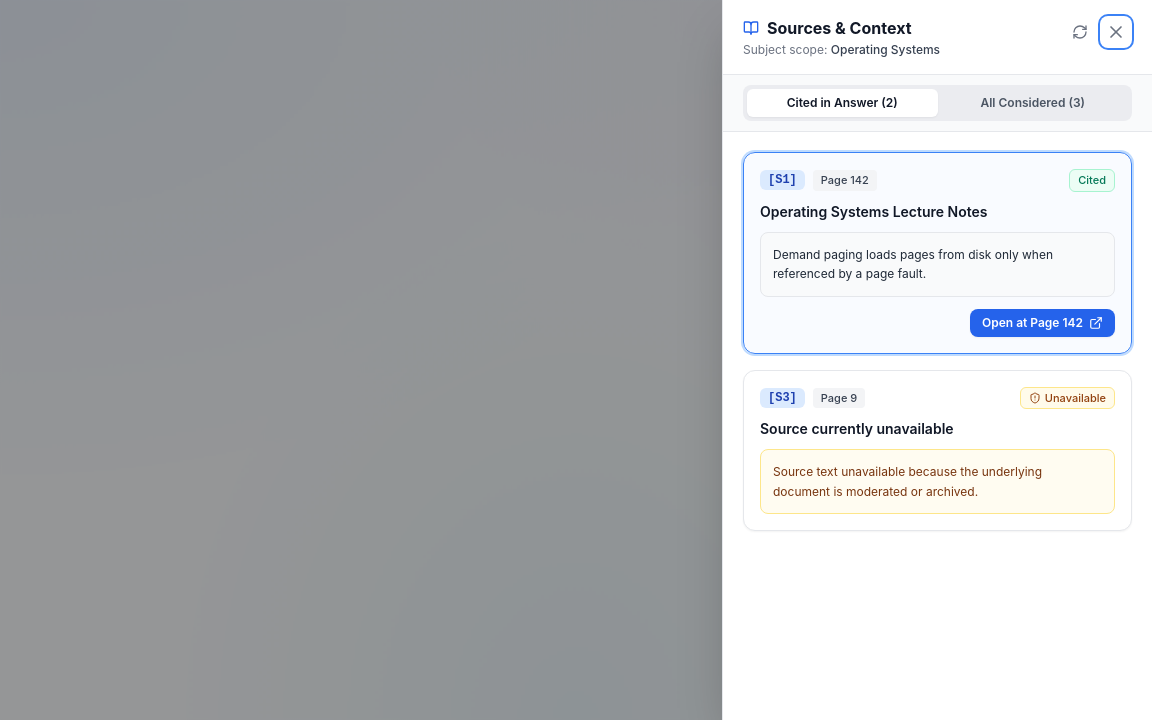
it: SourcesDrawer Component › loads authoritative sources, separates Cited vs All Considered, and links directly to exact physical page
Check: the heading "Operating Systems Lecture Notes" is shown, box x1=760 y1=202 x2=988 y2=220
Check: the text "Demand paging loads pages from disk only when referenced by a page fault." is shown, box x1=760 y1=232 x2=1115 y2=296
Step 1. Click the tab "All Considered (3)" → (1033, 103), box x1=938 y1=89 x2=1128 y2=117
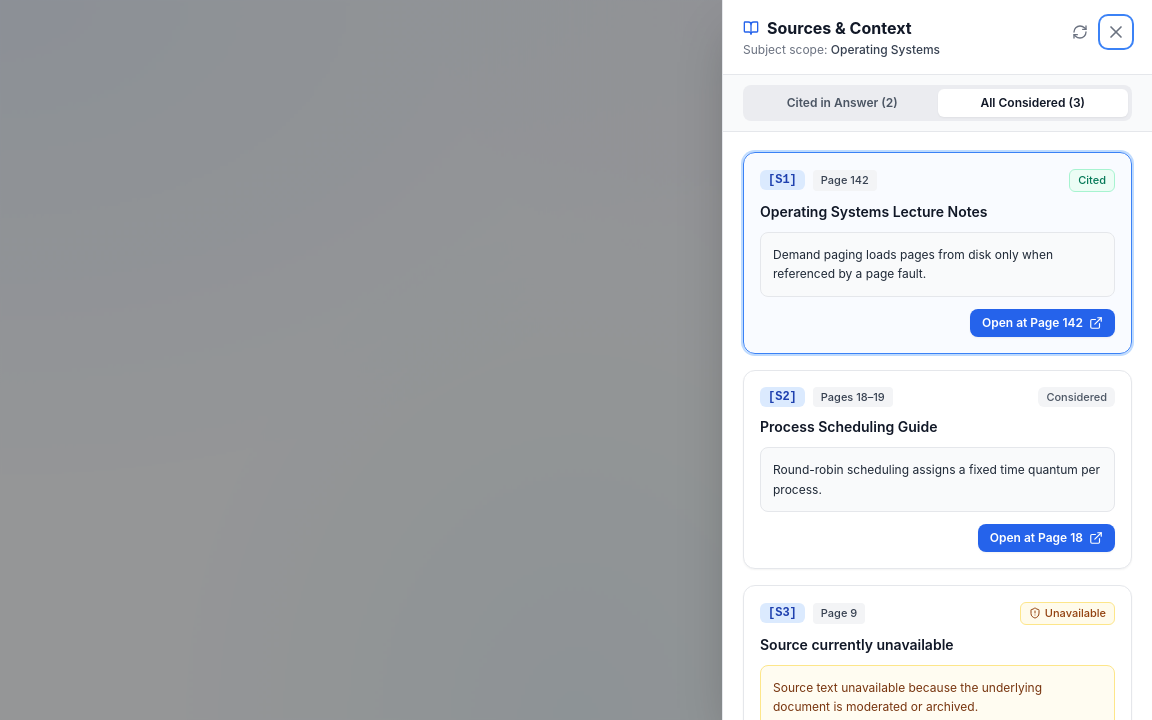
Check: the heading "Process Scheduling Guide" is shown, box x1=760 y1=418 x2=938 y2=435
